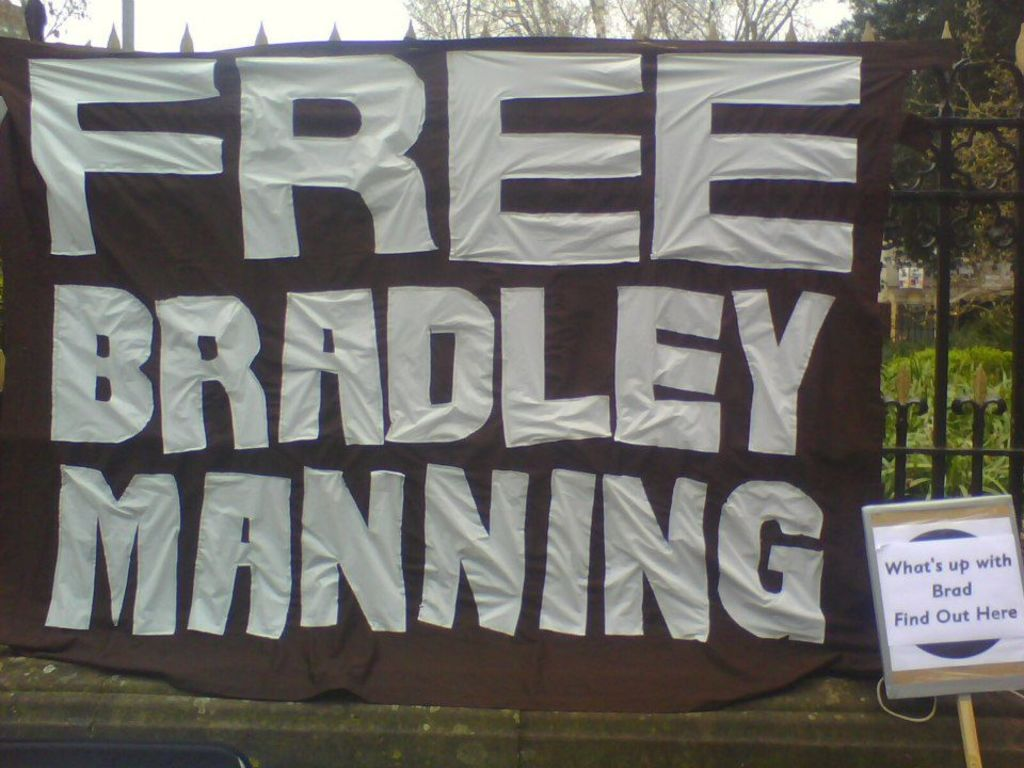Tree: (836, 0, 990, 262), (947, 0, 1022, 281), (397, 0, 832, 37), (50, 0, 90, 42)
